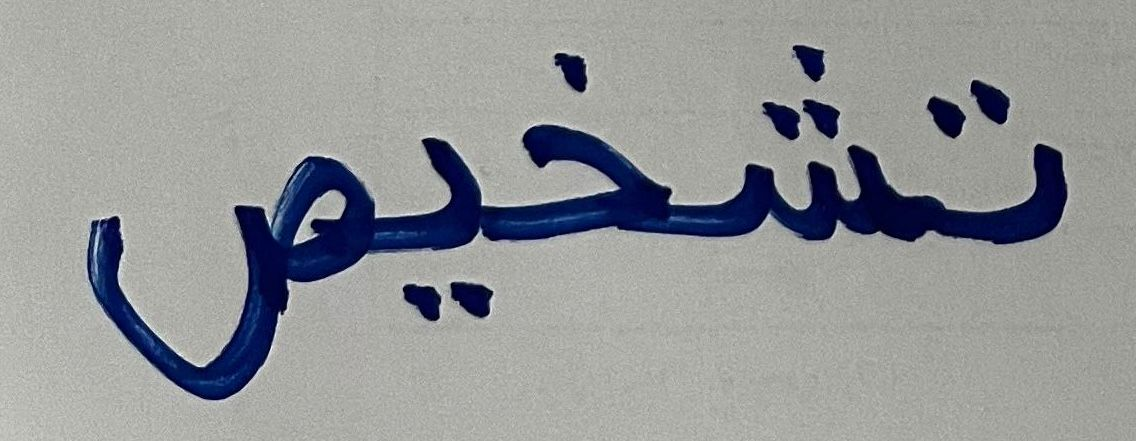khah: (508, 5, 695, 335)
seen: (60, 60, 371, 413)
sheen: (702, 1, 897, 335)
teh: (902, 35, 1105, 339)
yeh: (376, 61, 502, 371)
